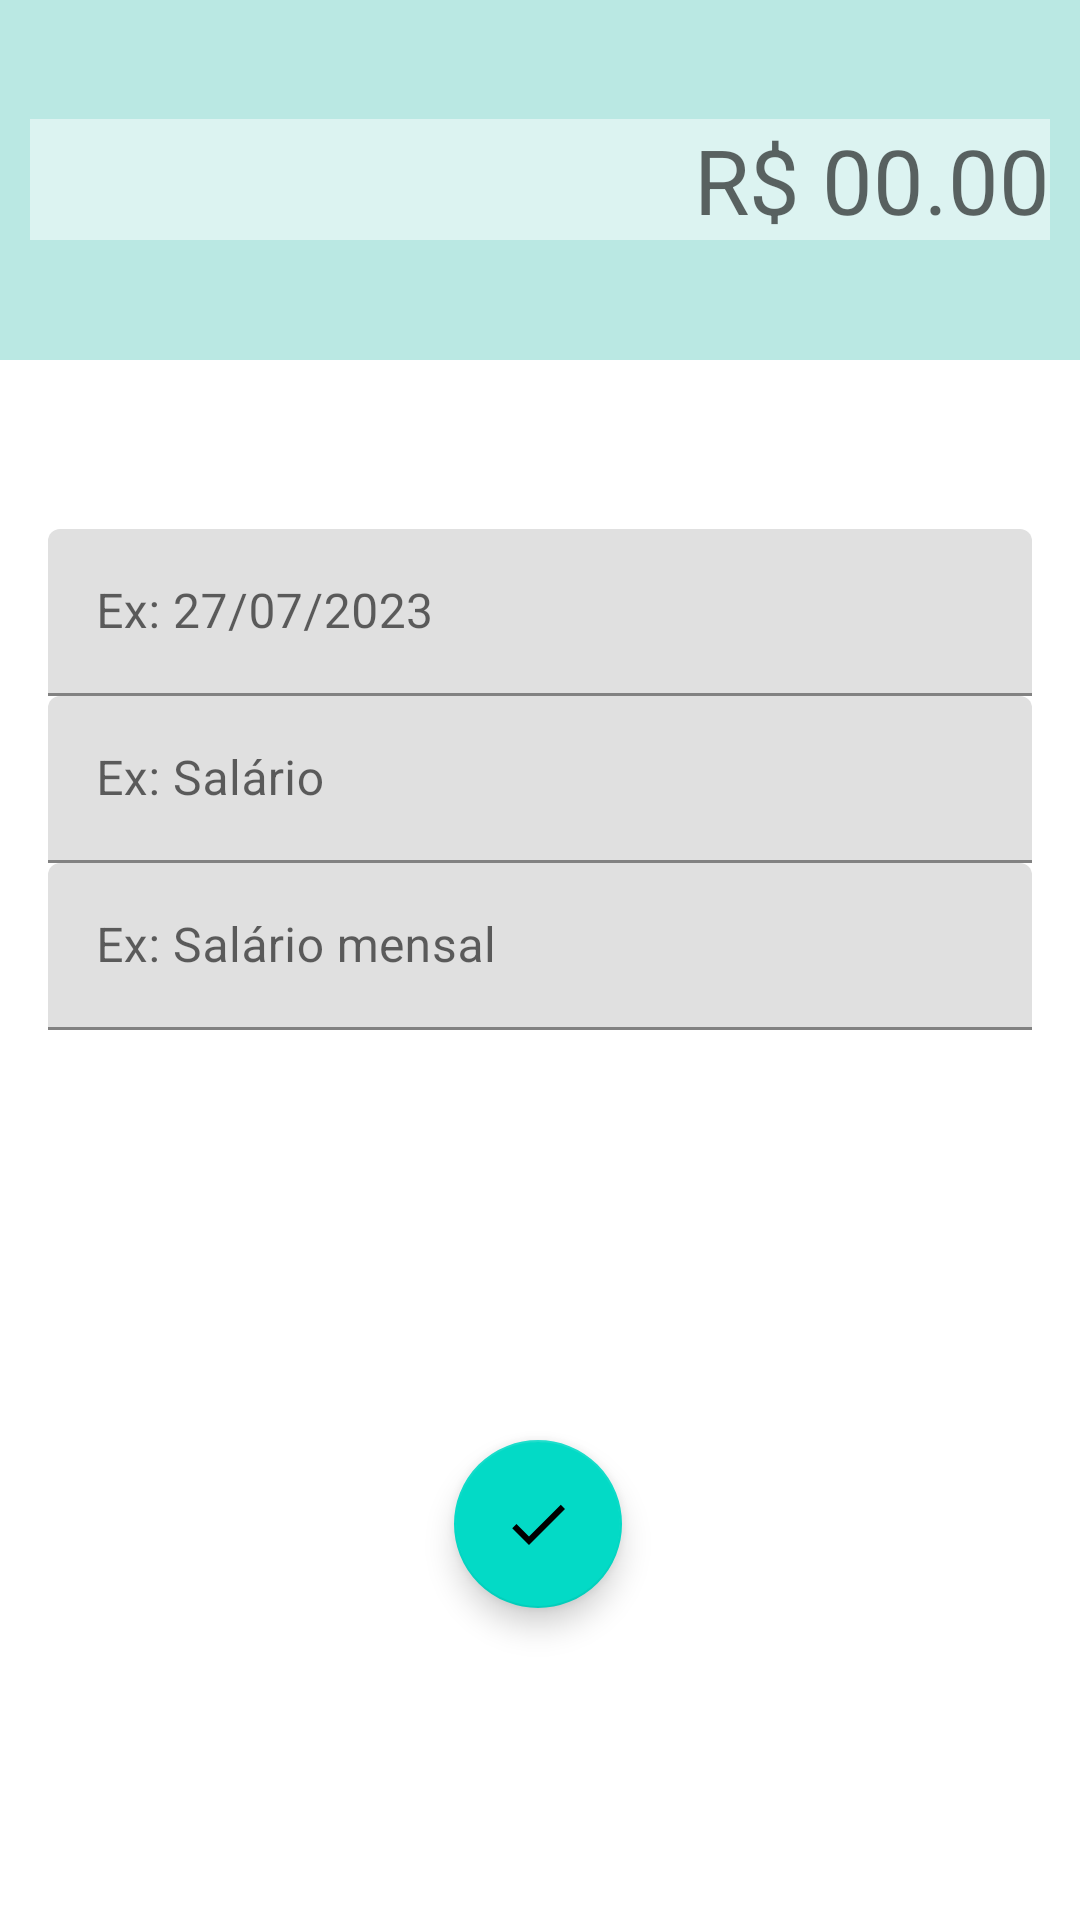

Icons on this 1080w x 1920h Android screen, each with the point to tap as (x,y):
confirma: (538,1524)
